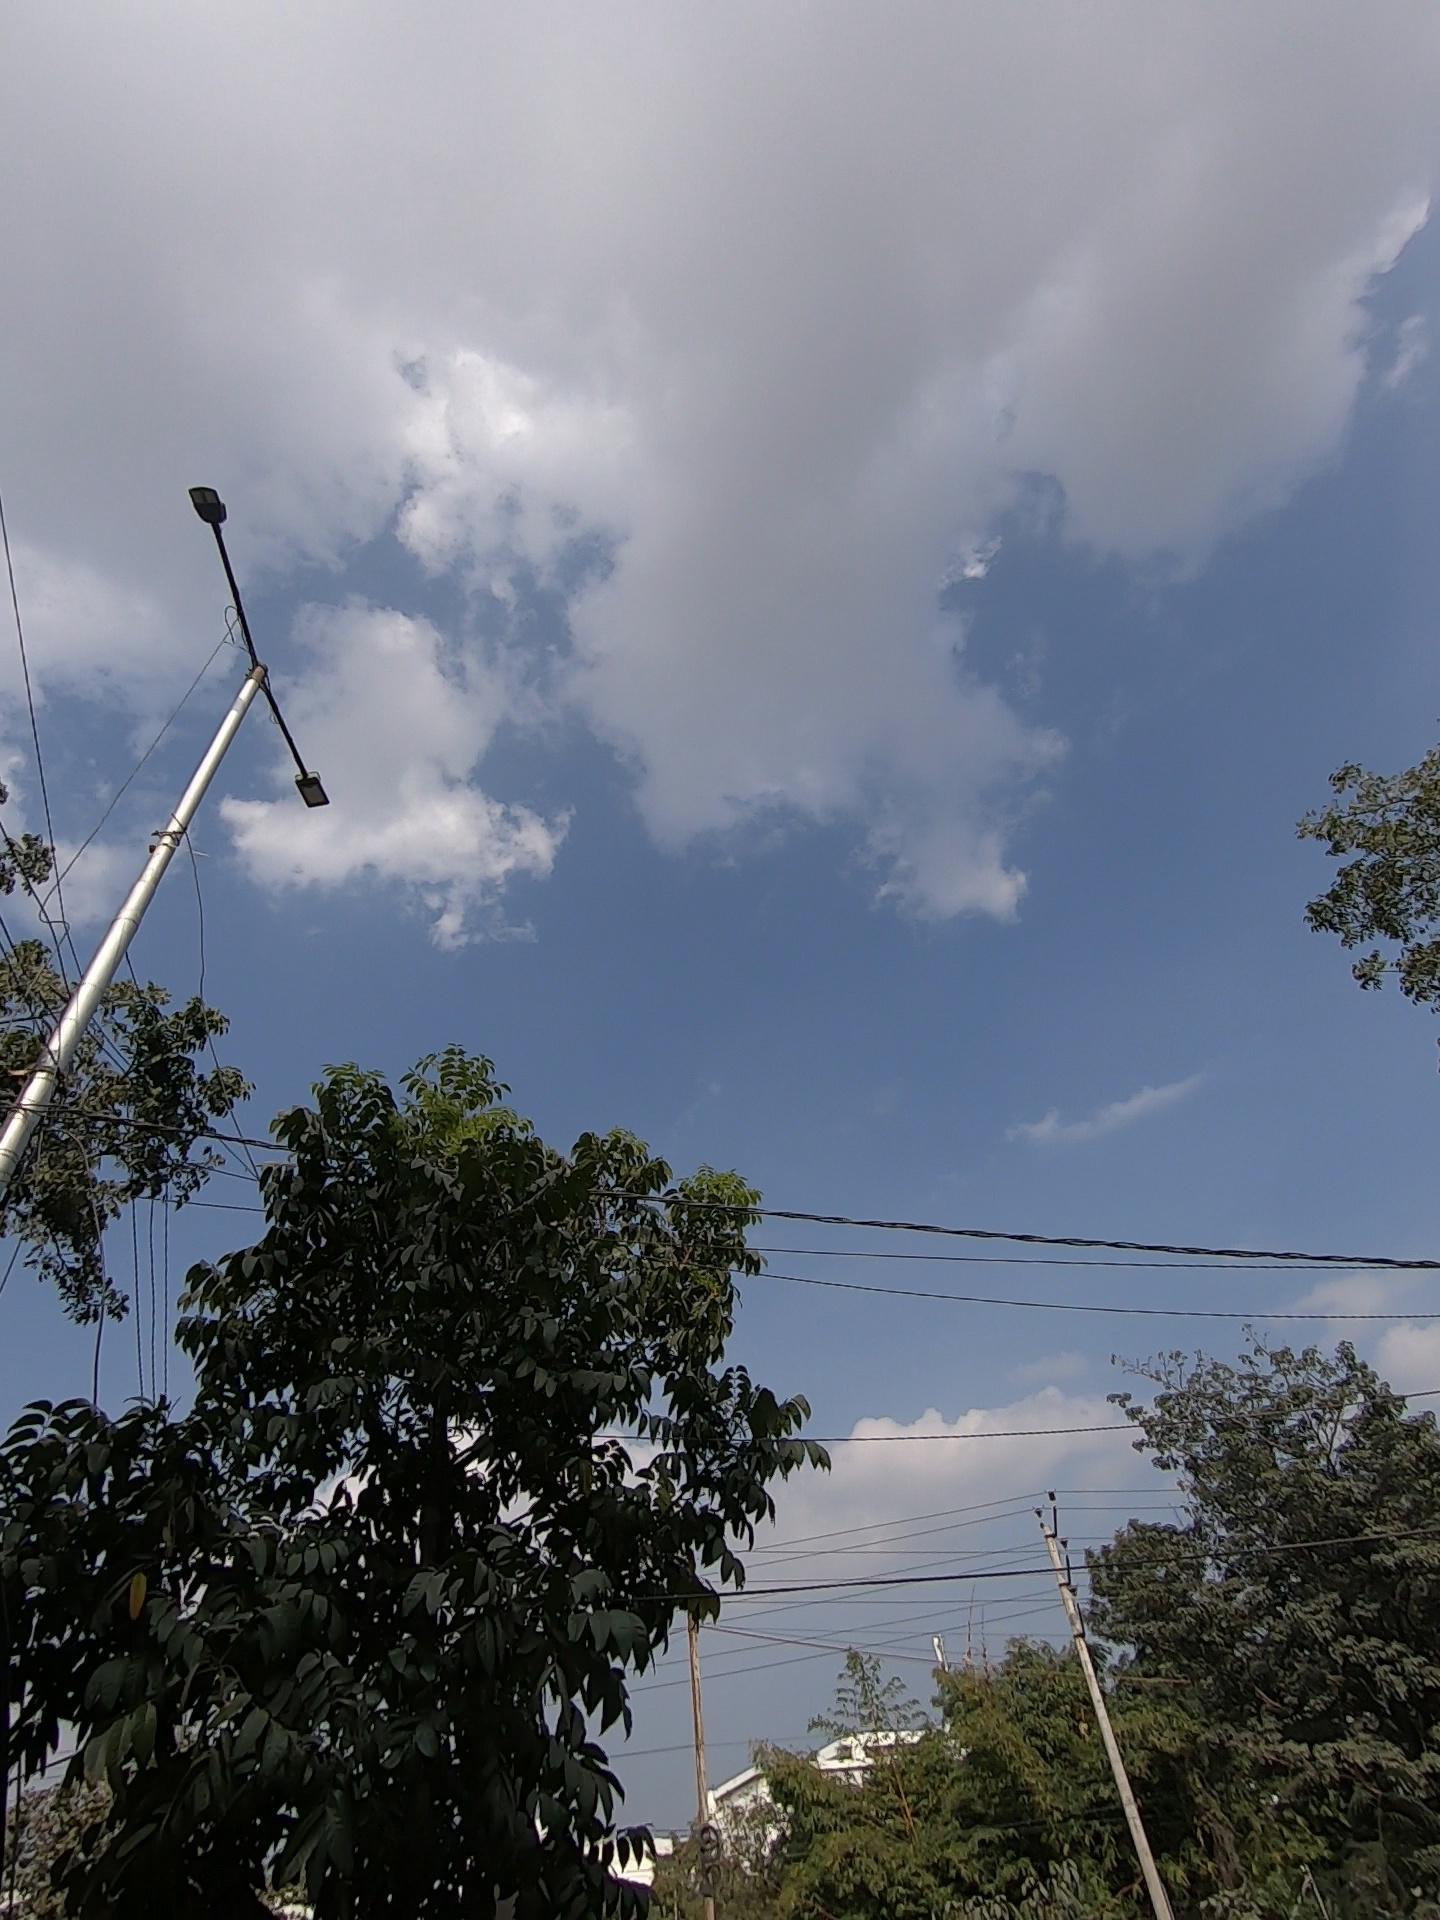off: (160, 461, 387, 795)
